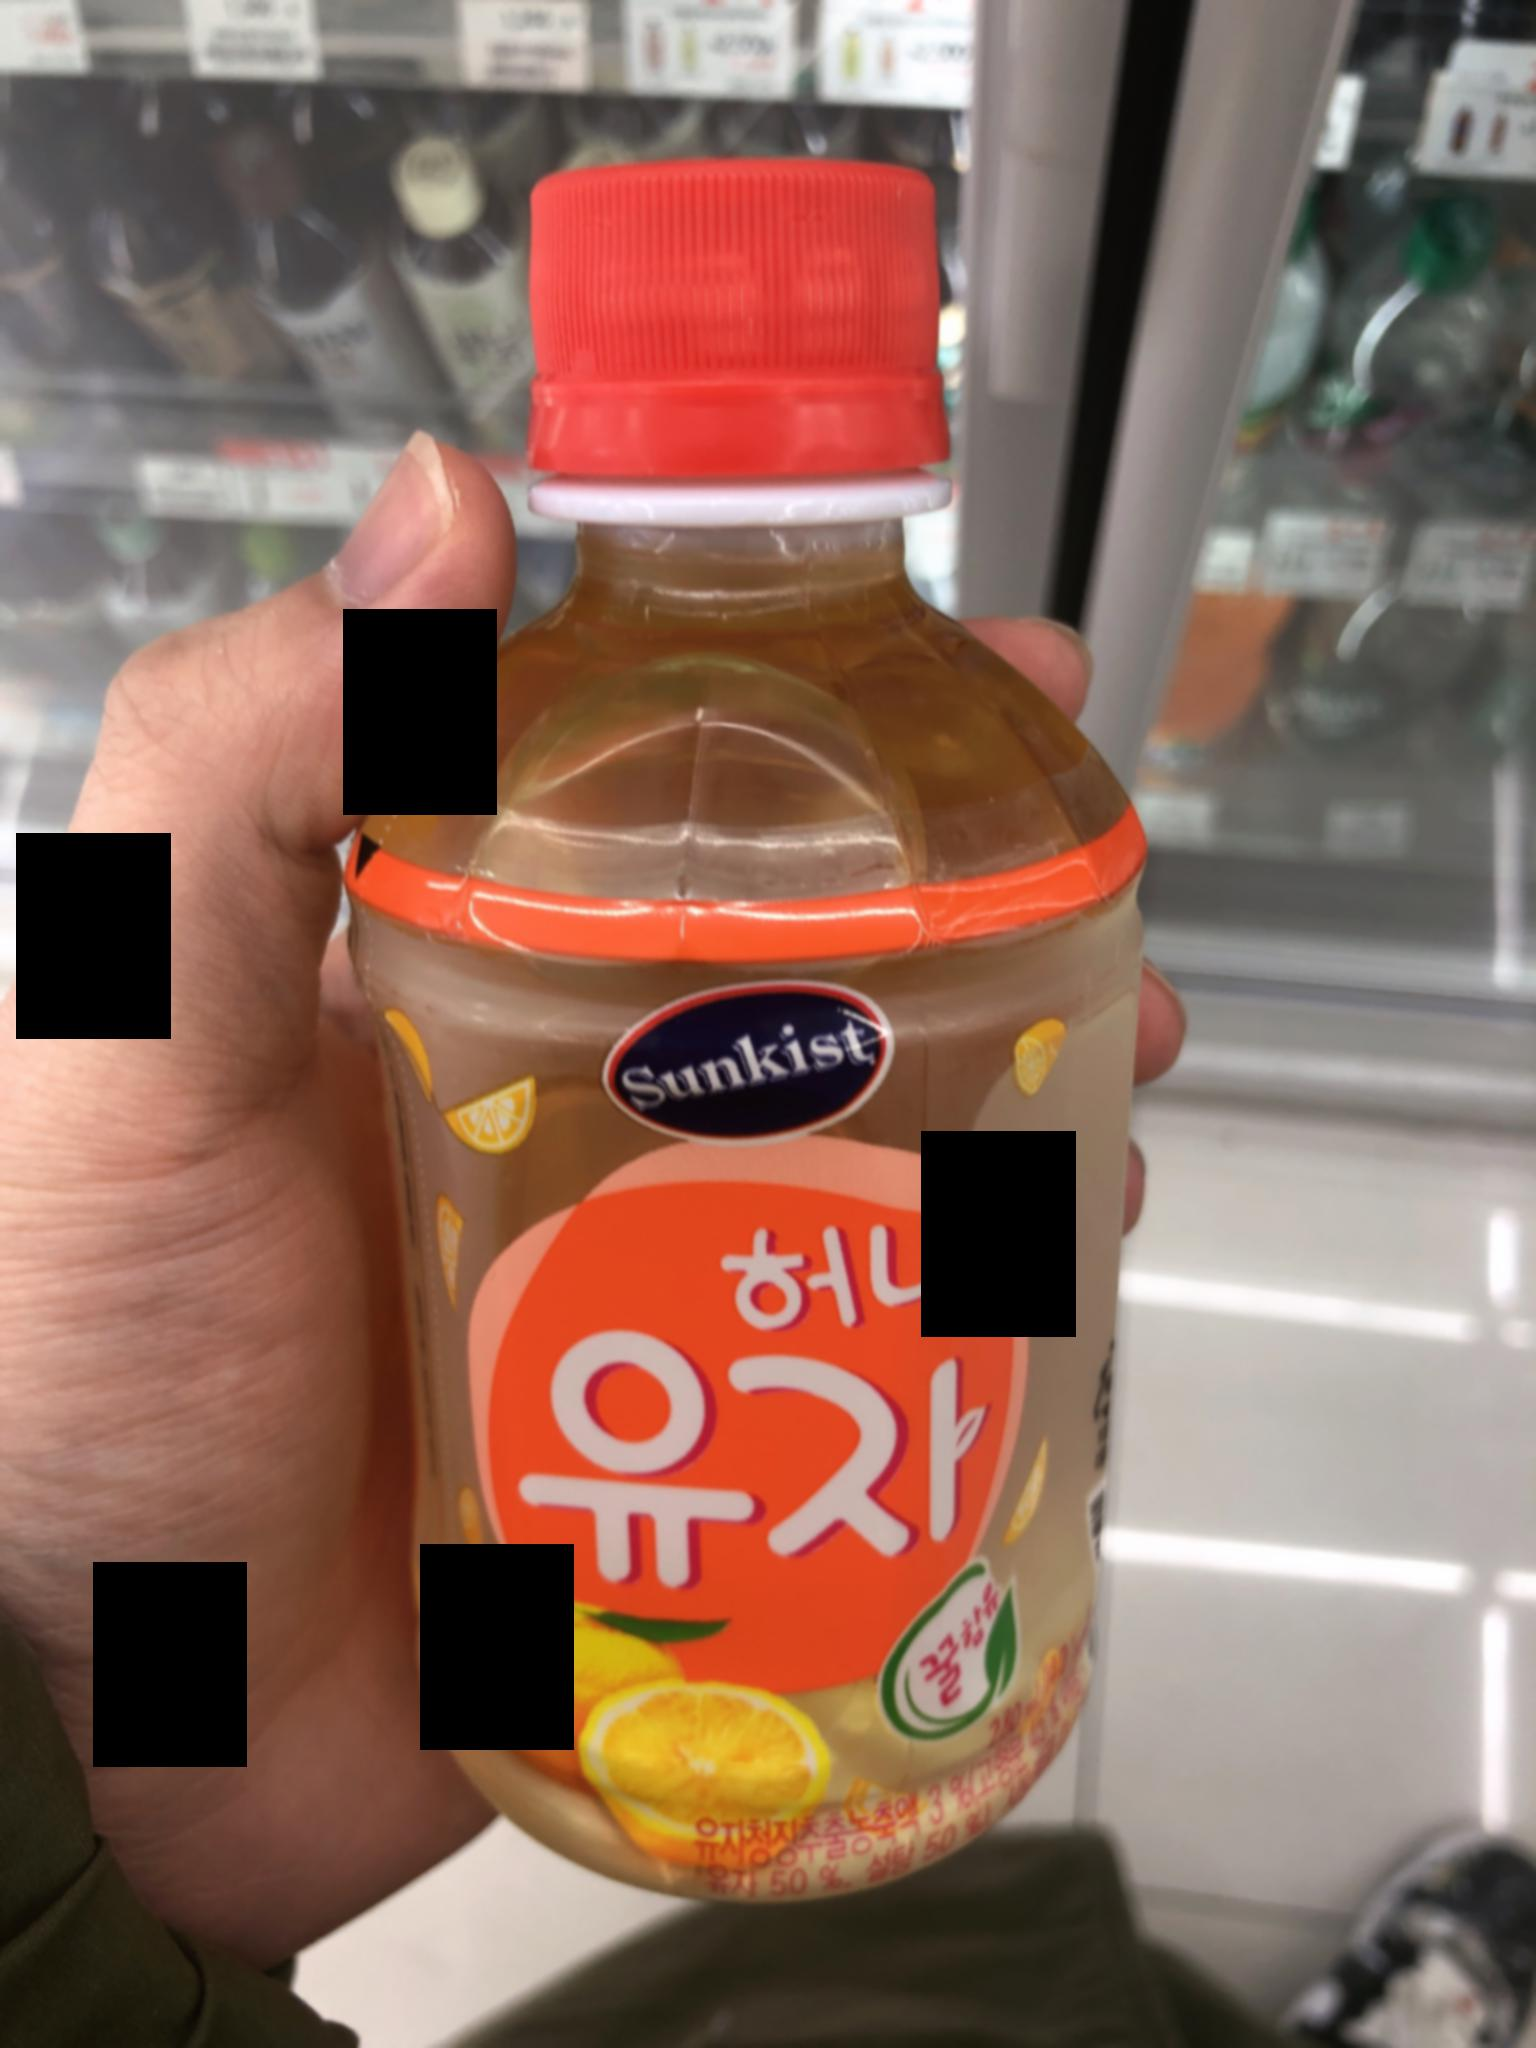honeyyuja: (216, 126, 1241, 1924)
